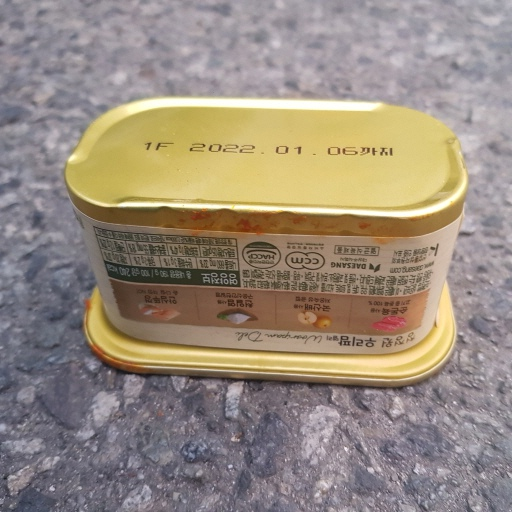Metal_2: (63, 93, 475, 396)
